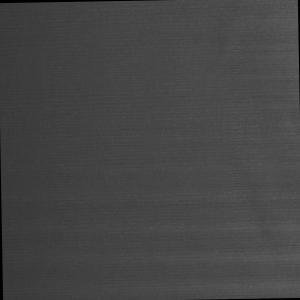Wrinkle: (1, 187, 300, 300)
